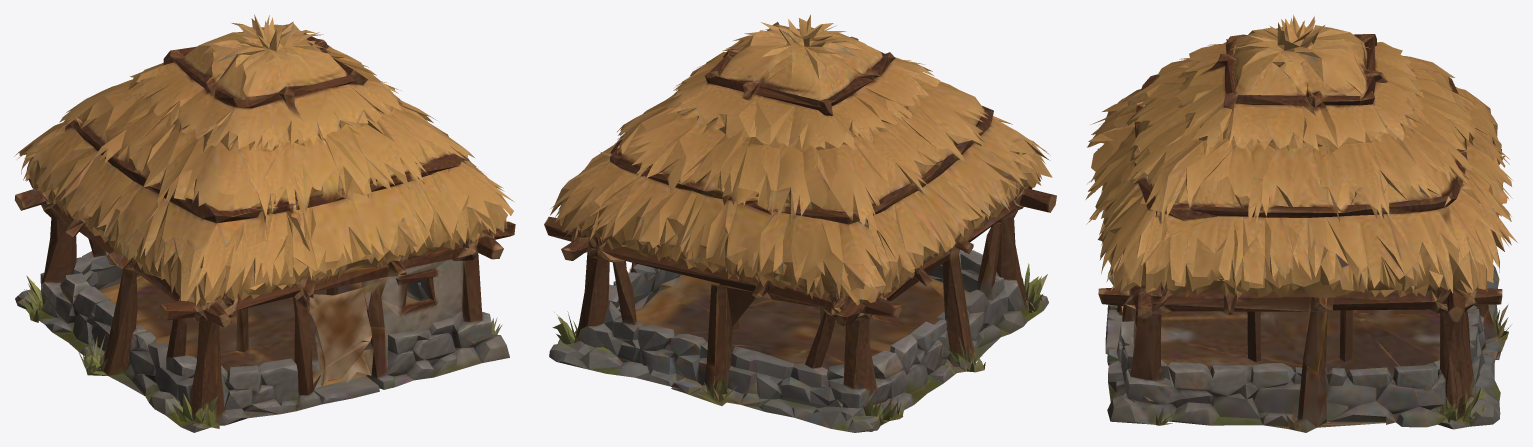
The model's file is house.glb.
The picture shows the model from 3 angles, left to right: view 1: azimuth 30°, elevation 25°; view 2: azimuth 150°, elevation 25°; view 3: azimuth 270°, elevation 25°; orthographic projection. The views are drawn at different scales.
Bounding box in the file's own units: 1.89 × 1.52 × 1.86.
1 material, 1 textured.
